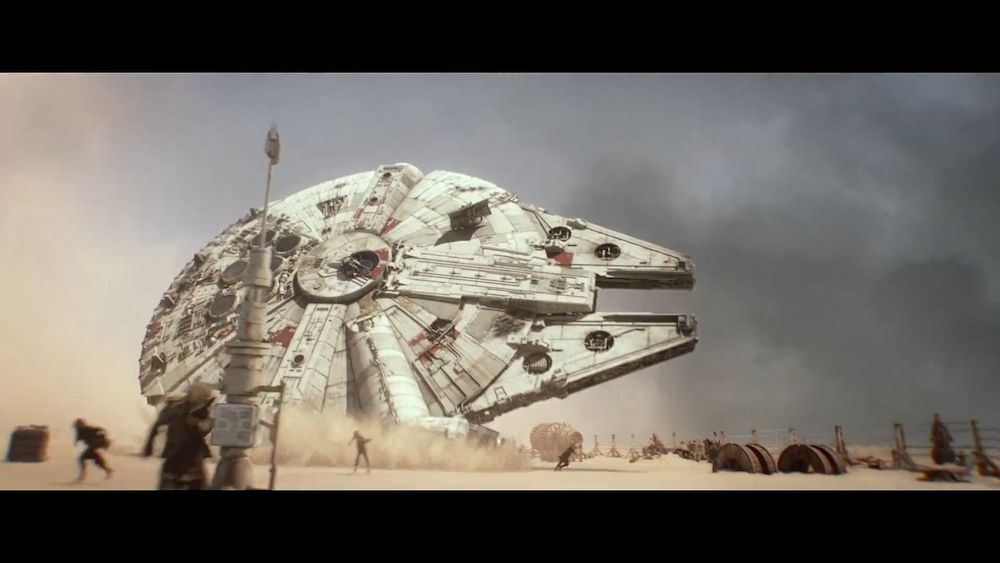Millennium Falcon: (140, 164, 699, 465)
